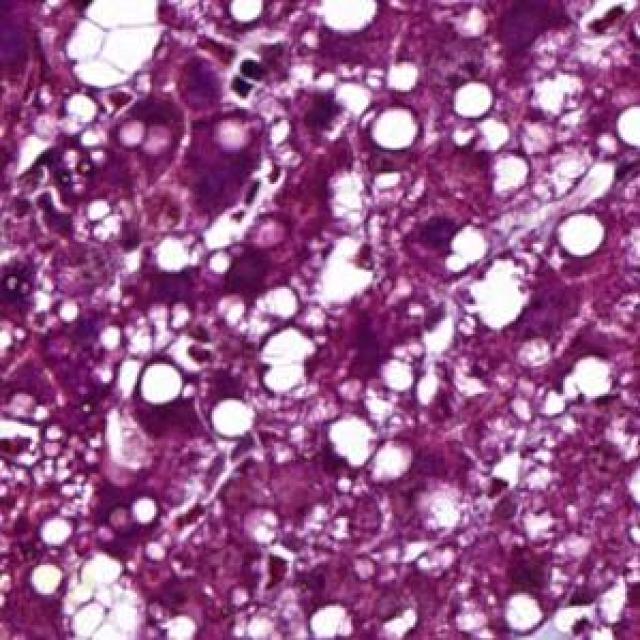ballooning: (55, 0, 173, 96)
